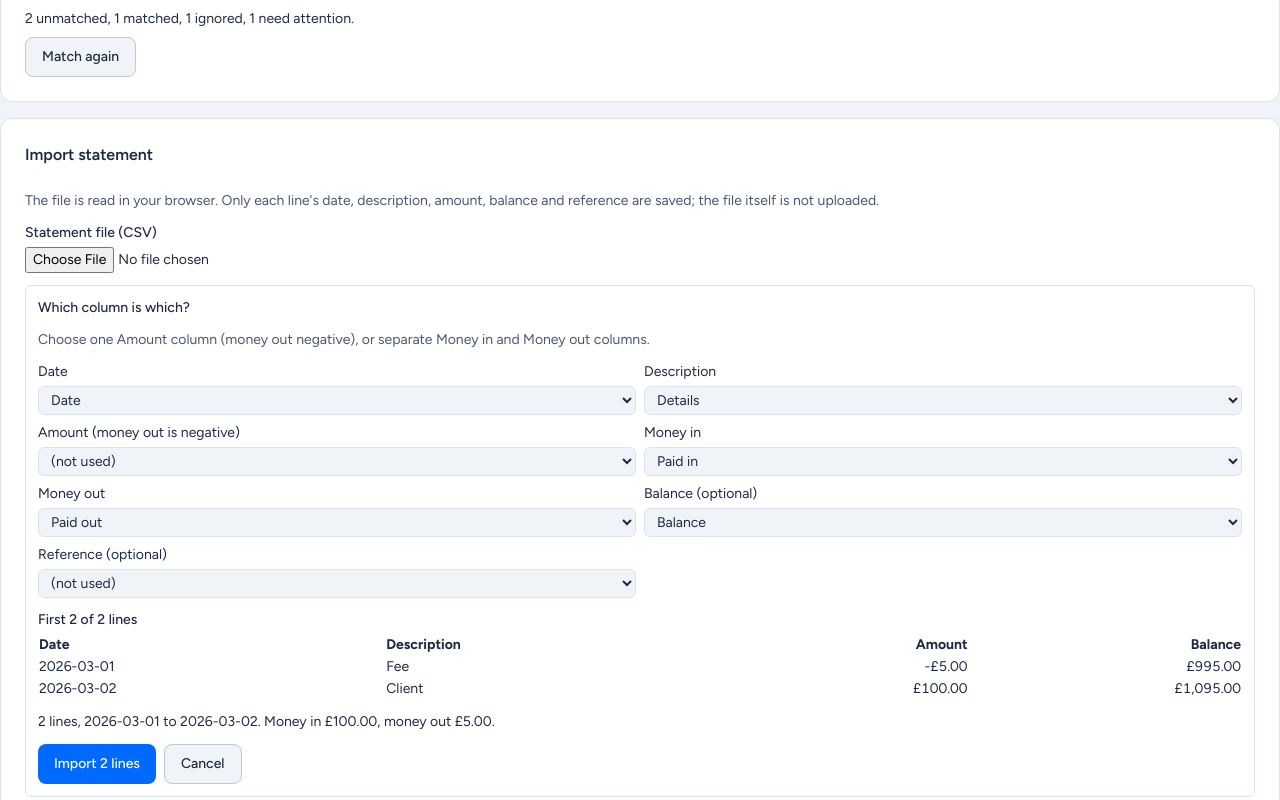
Bank: import a statement › Money in / Money out columns, a preamble above the header, and a person can change the mapping
The width and height of the screenshot is (1280, 800).
Earlier steps of the test are not shown.
(page scrolled)
Expected: the dropdown labelled "Money out" shows "Paid out", [38,508,636,537]
Expected: the text with test id "bank-totals" reads "2 lines, 2026-03-01 to 2026-03-02. Money in £100.00, money out £5.00.", [38,713,495,730]
Select "(not used)" in the dropdown labelled "Date" at (337, 400), box [38,386,636,415]
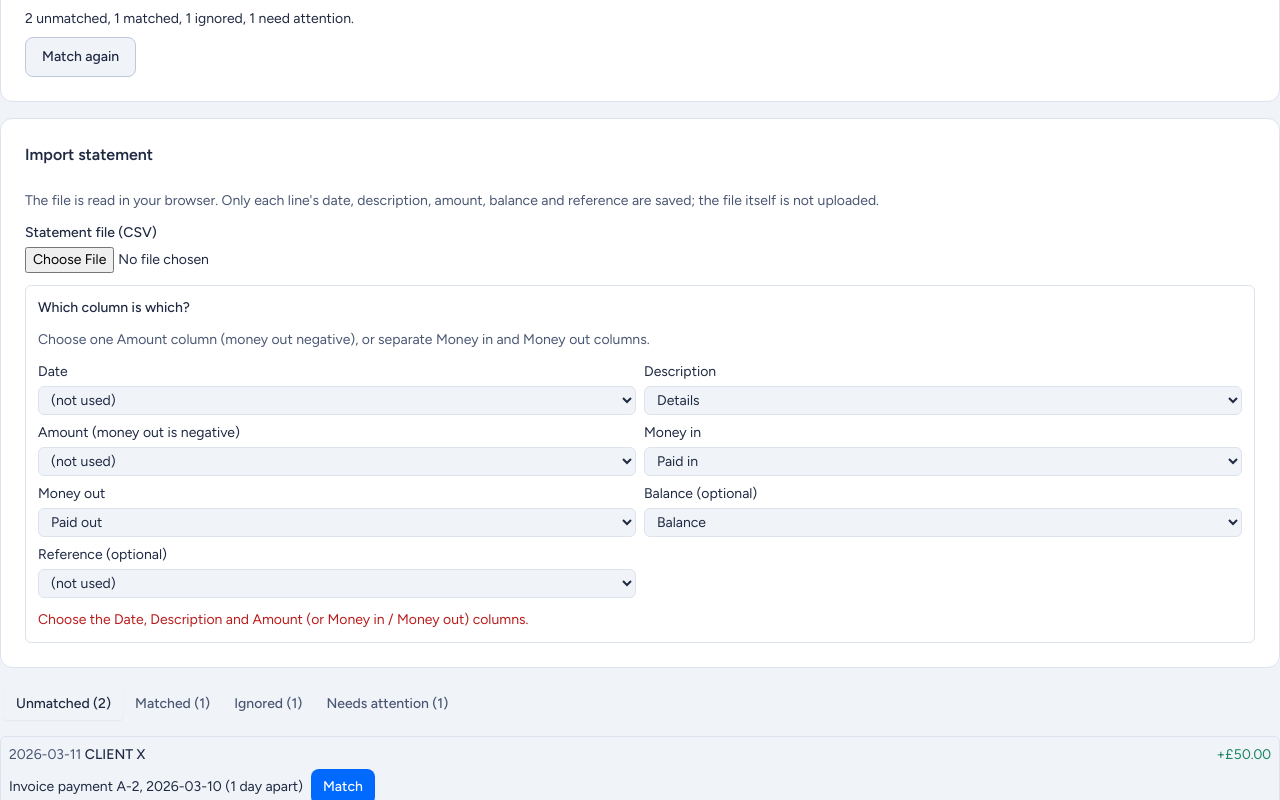
Now the message shows "Choose the Date, Description and Amount", box [38,611,528,628]
